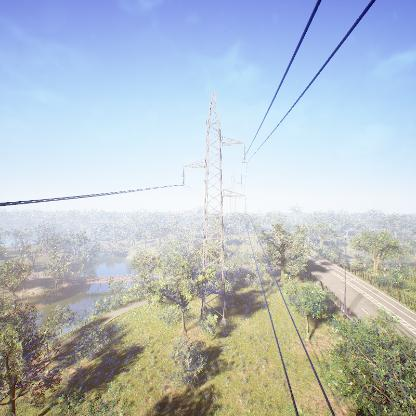tower: (180, 92, 248, 330)
